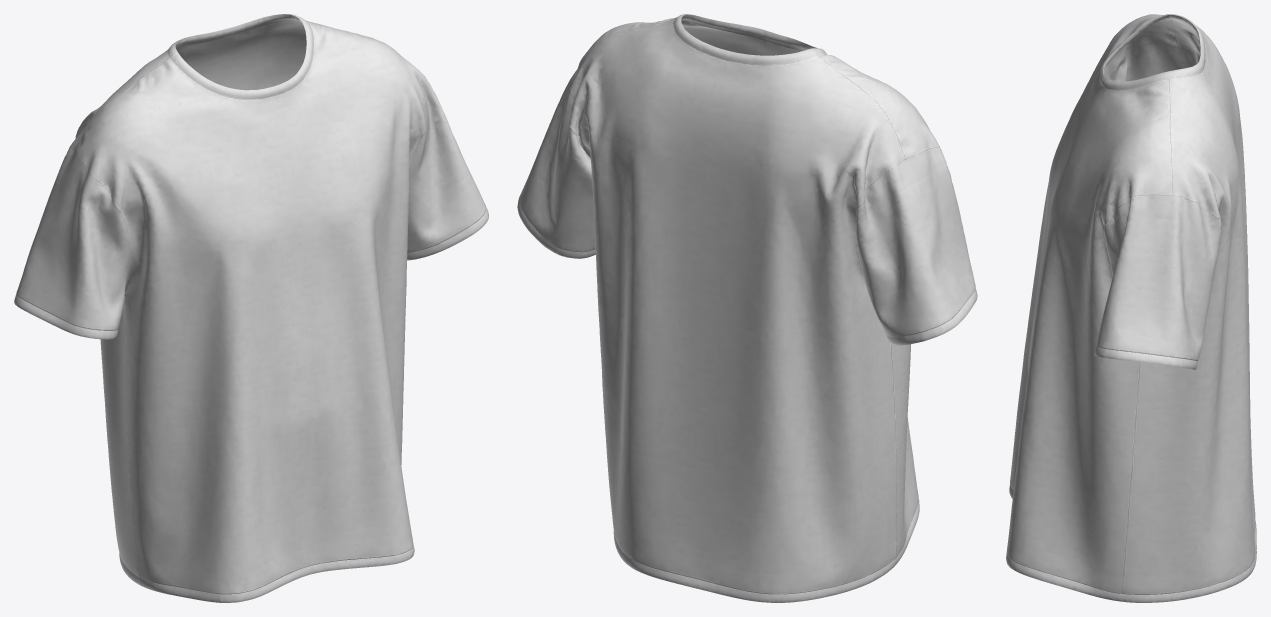
The model's file is oversized_t-shirt.glb.
3 views of the same model, side by side, from view 1: azimuth 30°, elevation 25°; view 2: azimuth 150°, elevation 25°; view 3: azimuth 270°, elevation 25° (orthographic). The views are drawn at different scales.
Visible parts, largest first — view 1: Object_2; view 2: Object_2; view 3: Object_2.
Part boxes in pixels (x1,y1,x2,y2): Object_2: (14, 14, 488, 602); Object_2: (517, 14, 977, 602); Object_2: (1006, 14, 1256, 602).
Size of the model in its own units: 0.637 by 0.7108 by 0.3212.
1 material, 1 textured.
